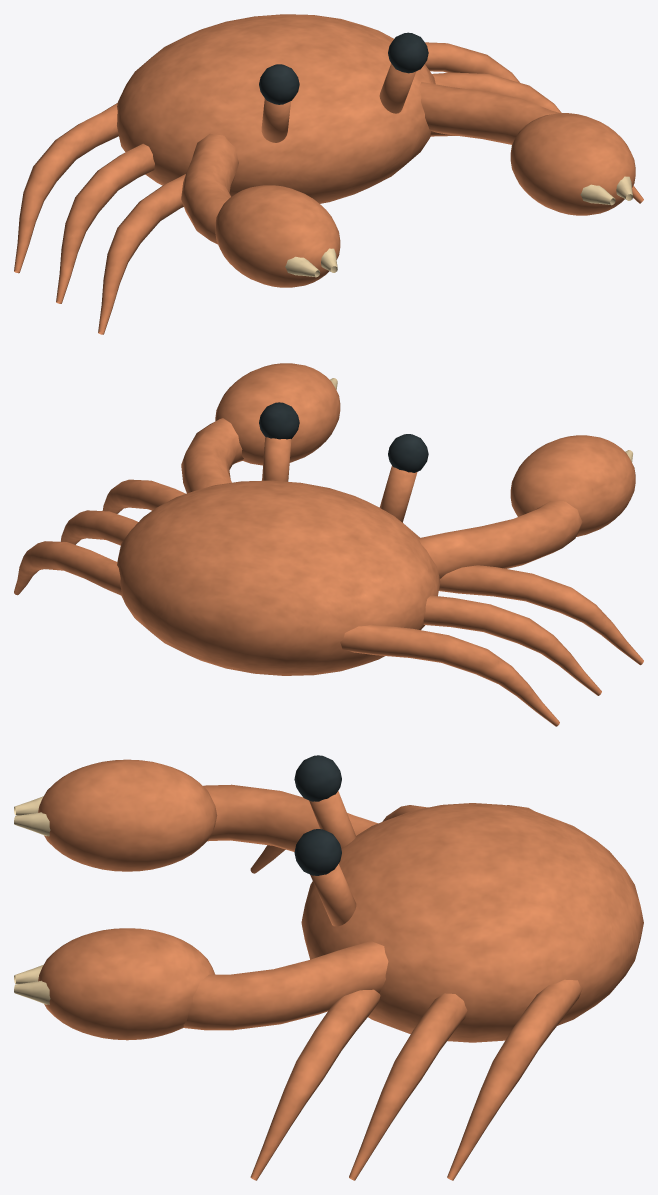
The model's file is crab_body.glb.
3 renders of one model, top to bottom at view 1: azimuth 30°, elevation 25°; view 2: azimuth 150°, elevation 25°; view 3: azimuth 270°, elevation 25°, orthographic. The views are drawn at different scales.
Parts seen in each view (by area): view 1: crab_body_textured_mesh; view 2: crab_body_textured_mesh; view 3: crab_body_textured_mesh.
Part boxes in pixels (box(x1,y1,x2,y2)): crab_body_textured_mesh: box(14, 14, 643, 334); crab_body_textured_mesh: box(14, 363, 643, 726); crab_body_textured_mesh: box(14, 755, 643, 1180).
Bounding box in the file's own units: 2.62 × 0.9142 × 2.24.
Materials: 1 (1 with a texture image).
